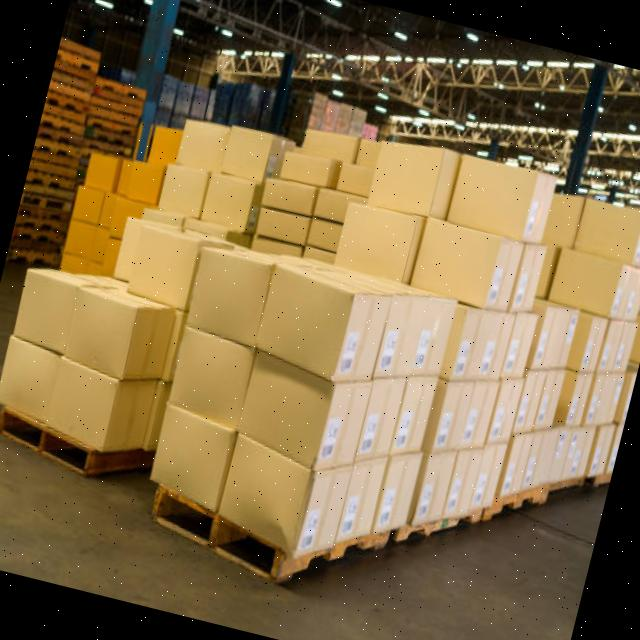Wooden-Pallets: (139, 481, 396, 591), (0, 401, 152, 484), (482, 477, 552, 534), (394, 503, 485, 544)
